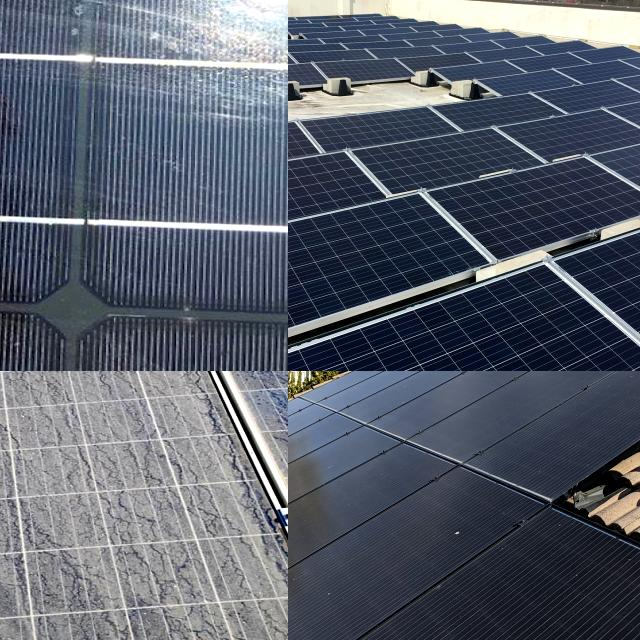crack: (288, 235, 640, 371), (288, 180, 542, 357), (416, 154, 640, 279), (565, 202, 640, 371), (357, 130, 537, 197), (485, 102, 640, 178), (296, 109, 460, 152), (288, 121, 399, 174), (611, 132, 640, 212)
dust: (0, 371, 190, 640), (349, 558, 605, 640), (0, 371, 220, 409), (226, 553, 288, 640), (197, 371, 288, 429), (0, 371, 101, 412)
shadow: (0, 0, 44, 250)
